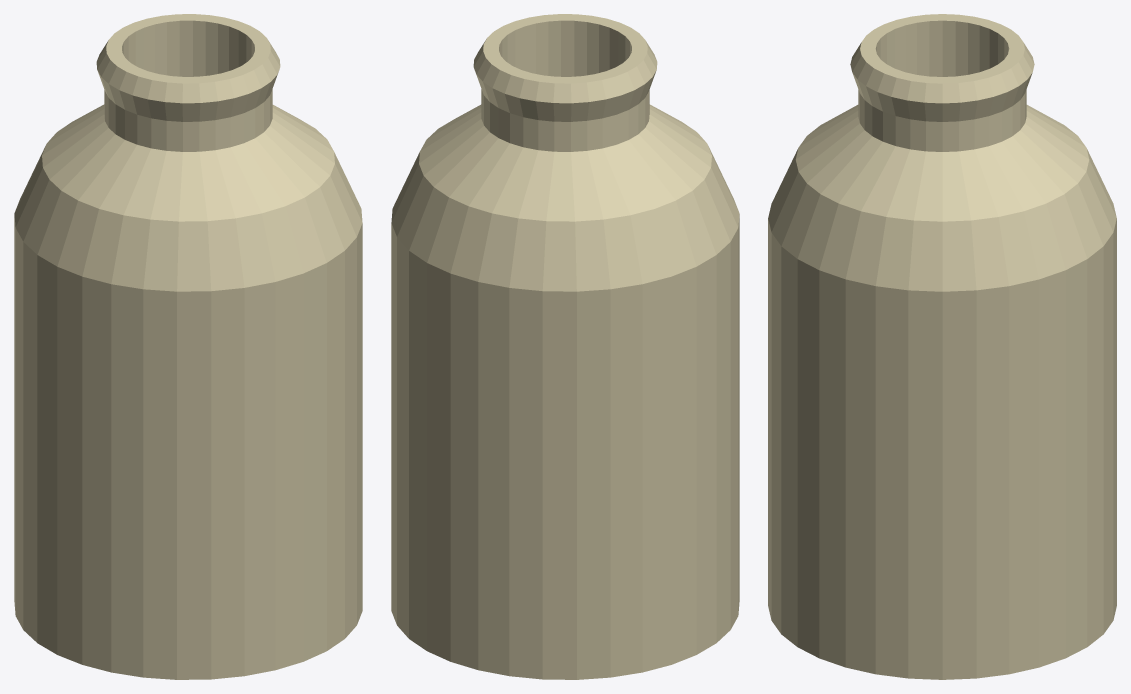
File: Bottle_Milk.glb
3 views of the same model, side by side, from view 1: azimuth 30°, elevation 25°; view 2: azimuth 150°, elevation 25°; view 3: azimuth 270°, elevation 25° (orthographic).
Parts seen in each view (by area): view 1: bottle_milk.001; view 2: bottle_milk.001; view 3: bottle_milk.001.
Part boxes in pixels (x1,y1,x2,y2): bottle_milk.001: [14, 14, 362, 679]; bottle_milk.001: [391, 14, 739, 679]; bottle_milk.001: [768, 14, 1116, 679].
Size of the model in its own units: 0.254 by 0.448 by 0.254.
